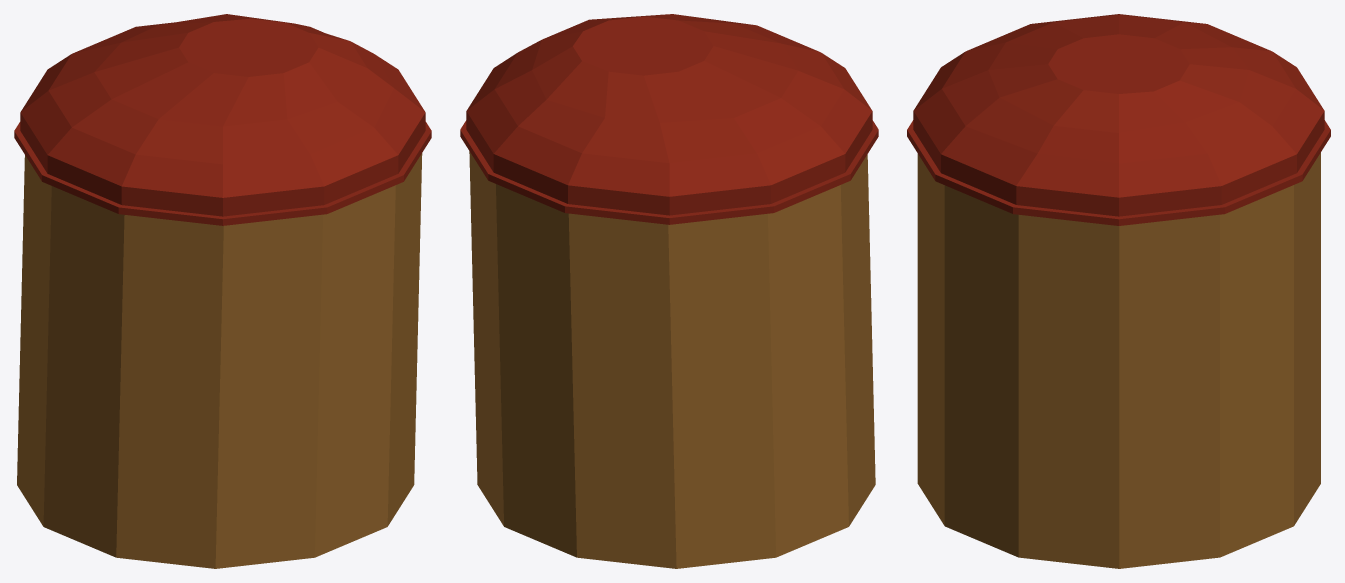
The model's file is Banco de madeira (1).fbx.
3 views of the same model, side by side, from view 1: azimuth 30°, elevation 25°; view 2: azimuth 150°, elevation 25°; view 3: azimuth 270°, elevation 25° (orthographic).
Parts seen in each view (by area): view 1: Cilindro; view 2: Cilindro; view 3: Cilindro.
Part boxes in pixels (box(x1,y1,x2,y2)): Cilindro: box(14, 14, 431, 568); Cilindro: box(460, 14, 878, 568); Cilindro: box(907, 14, 1330, 568).
Size of the model in its own units: 210 by 239 by 210.
Materials: 1 (1 with a texture image).
